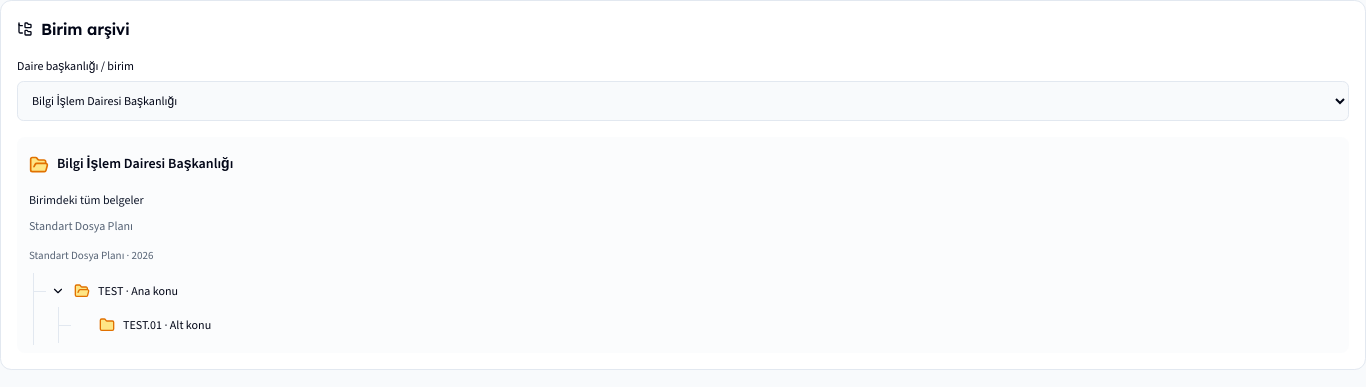
Scenario: Birim arşivi gezinmesi › başlık satırını çoğaltmadan klasör dalları açılıp kapanabilir
Expected: the number of links "TEST · Ana konu" is 1, [74,283,178,299]
Click the button named "TEST · Ana konu alt başlıklarını daralt". click: x=58, y=291
box: [46,279,70,303]
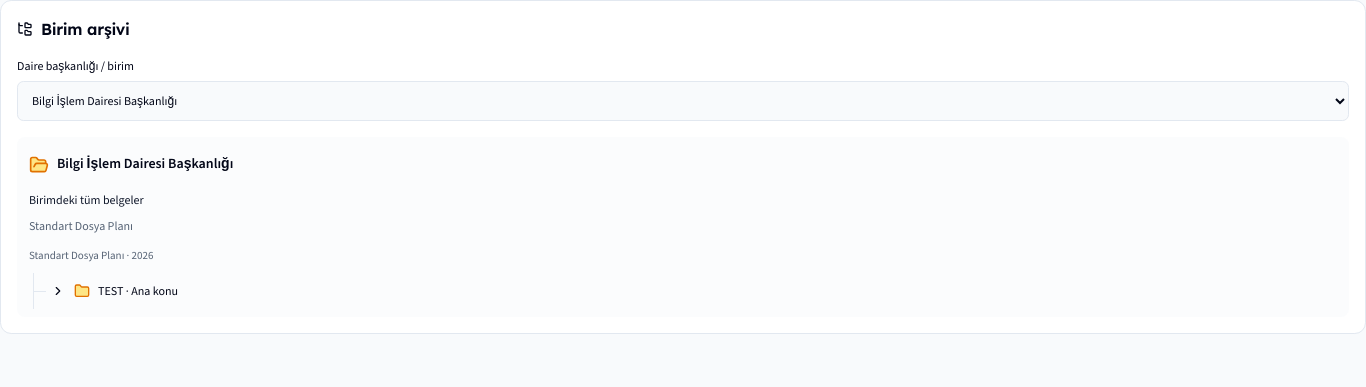
Now the link "TEST.01 · Alt konu" is gone
Click the button named "TEST · Ana konu alt başlıklarını genişlet". click: x=58, y=291
box: [46,279,70,303]
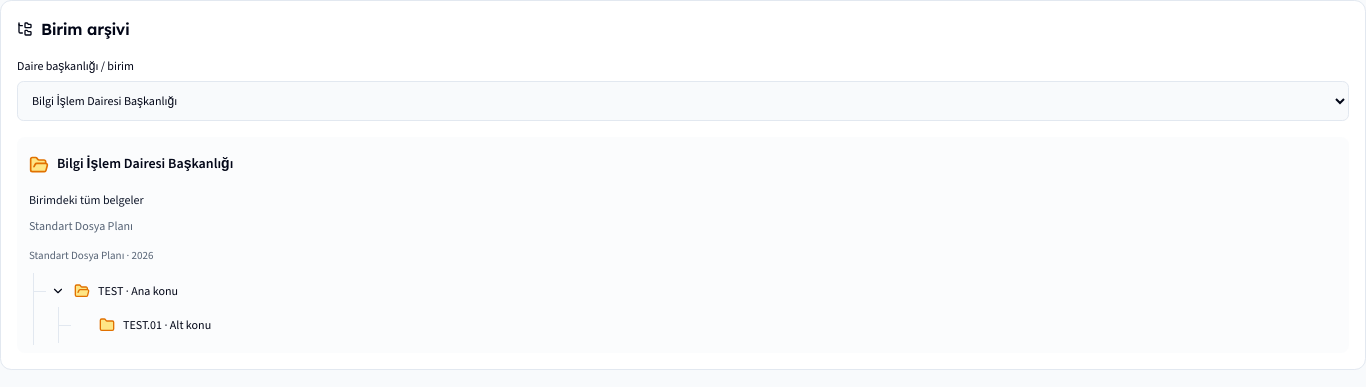
Now the link "TEST.01 · Alt konu" is shown, box [99,317,211,333]
